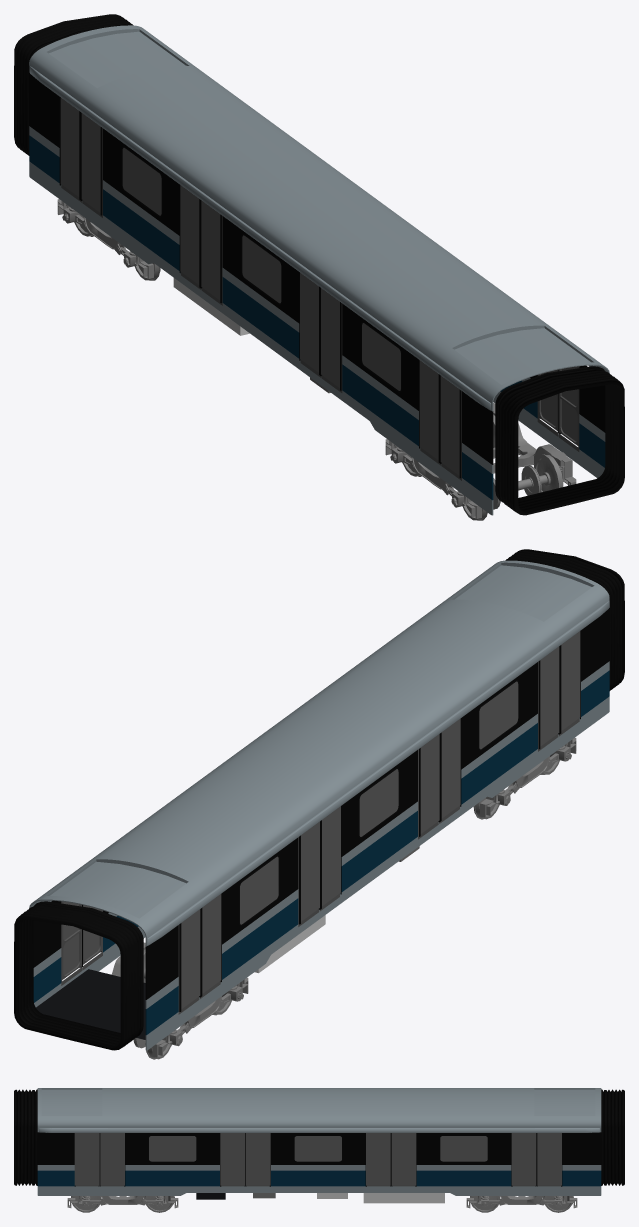
Rendered from 地铁列车厢.fbx.
3 renders of one model, top to bottom at view 1: azimuth 30°, elevation 25°; view 2: azimuth 150°, elevation 25°; view 3: azimuth 270°, elevation 25°, orthographic. The views are drawn at different scales.
Visible parts, largest first — view 1: 地铁列车厢_车体, 前构架, 前轮对1, 后构架; view 2: 地铁列车厢_车体, 后构架, 前构架; view 3: 地铁列车厢_车体, 后构架, 前构架, 前轮对1, 后轮对2, 后轮对1, 前轮对2.
Part boxes in pixels (x1=…): 地铁列车厢_车体: x1=14, y1=14, x2=624, y2=515; 前构架: x1=385, y1=403, x2=576, y2=518; 前轮对1: x1=462, y1=454, x2=563, y2=520; 后构架: x1=57, y1=199, x2=153, y2=278; 地铁列车厢_车体: x1=14, y1=549, x2=624, y2=1050; 后构架: x1=111, y1=942, x2=248, y2=1057; 前构架: x1=480, y1=738, x2=576, y2=817; 地铁列车厢_车体: x1=14, y1=1088, x2=624, y2=1203; 后构架: x1=466, y1=1196, x2=577, y2=1208; 前构架: x1=67, y1=1196, x2=178, y2=1208; 前轮对1: x1=71, y1=1196, x2=101, y2=1212; 后轮对2: x1=543, y1=1196, x2=573, y2=1212; 后轮对1: x1=470, y1=1196, x2=500, y2=1212; 前轮对2: x1=144, y1=1196, x2=174, y2=1212.
Size of the model in its own units: 279 by 372 by 2000.
